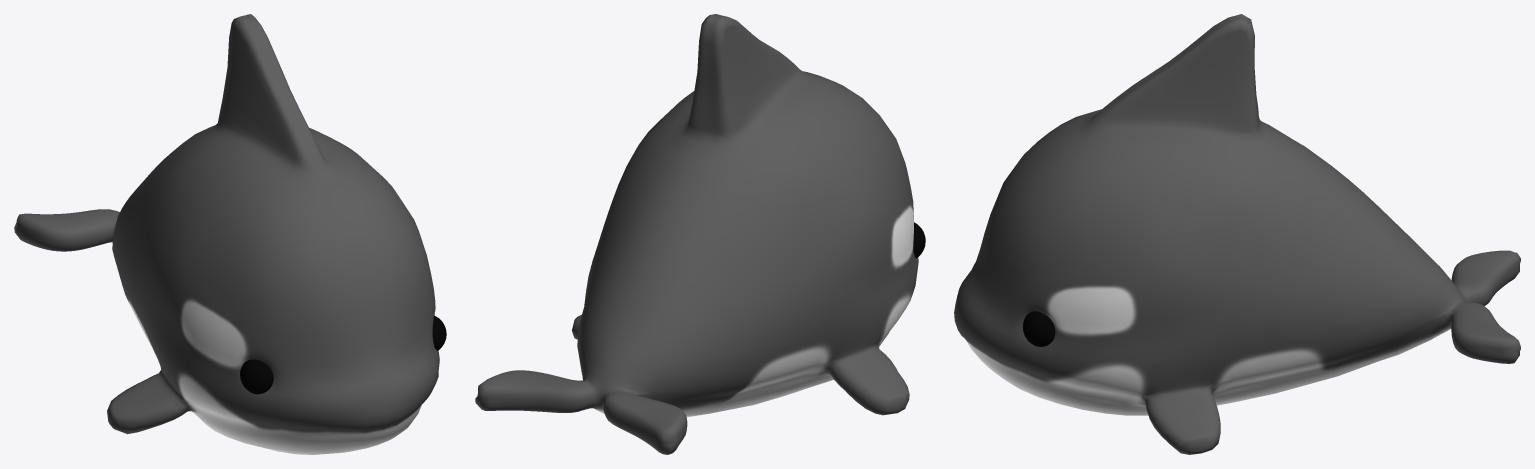
File: Orca.fbx
The picture shows the model from 3 angles, left to right: view 1: azimuth 30°, elevation 25°; view 2: azimuth 150°, elevation 25°; view 3: azimuth 270°, elevation 25°; orthographic projection. The views are drawn at different scales.
Parts seen in each view (by area): view 1: Orca; view 2: Orca; view 3: Orca.
Boxes of the visible parts, x1,y1,x2,y2 form: Orca: [14, 14, 446, 454]; Orca: [475, 14, 925, 454]; Orca: [954, 14, 1520, 454].
Size of the model in its own units: 313 by 349 by 482.
Materials: 2 (1 with a texture image).
